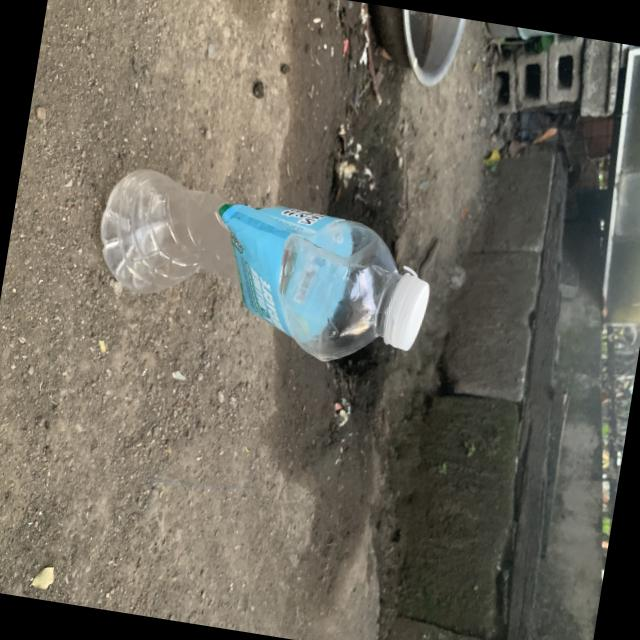Bottle: (99, 170, 428, 361)
